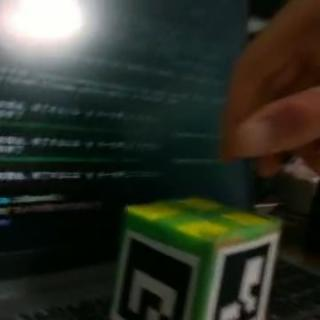armor: (113, 227, 197, 320), (208, 232, 278, 320)
robot: (108, 196, 282, 320)
